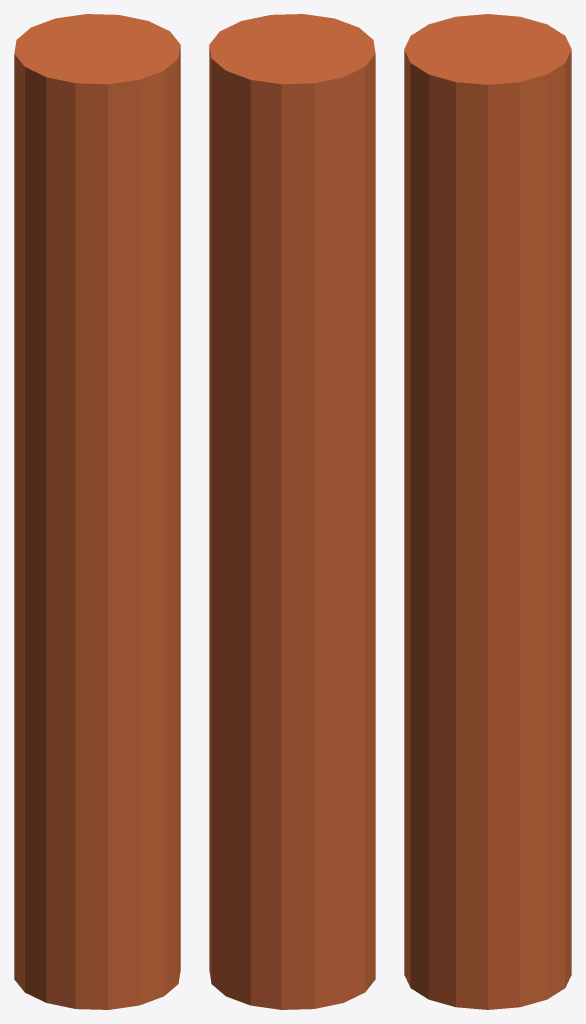
Rendered from Totem.fbx.
3 views of the same model, side by side, from view 1: azimuth 30°, elevation 25°; view 2: azimuth 150°, elevation 25°; view 3: azimuth 270°, elevation 25° (orthographic).
Visible parts, largest first — view 1: Cylinder; view 2: Cylinder; view 3: Cylinder.
Part boxes in pixels (box(x1,y1,x2,y2)): Cylinder: box(14, 14, 180, 1009); Cylinder: box(209, 14, 375, 1009); Cylinder: box(404, 14, 571, 1009).
Size of the model in its own units: 49.26 by 300 by 49.26.
